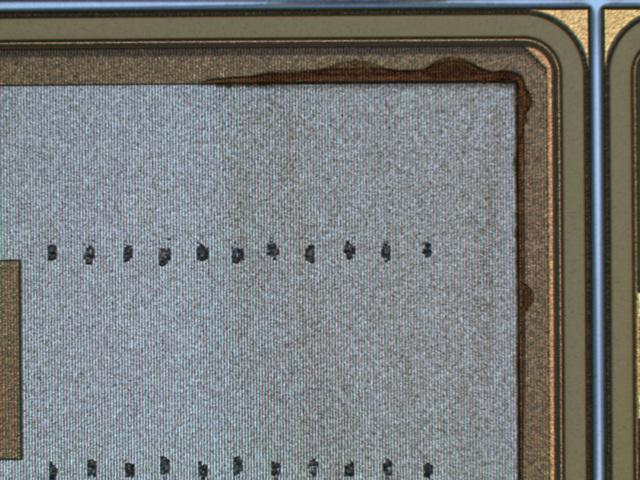SEZ BURNT: (189, 66, 527, 480)
